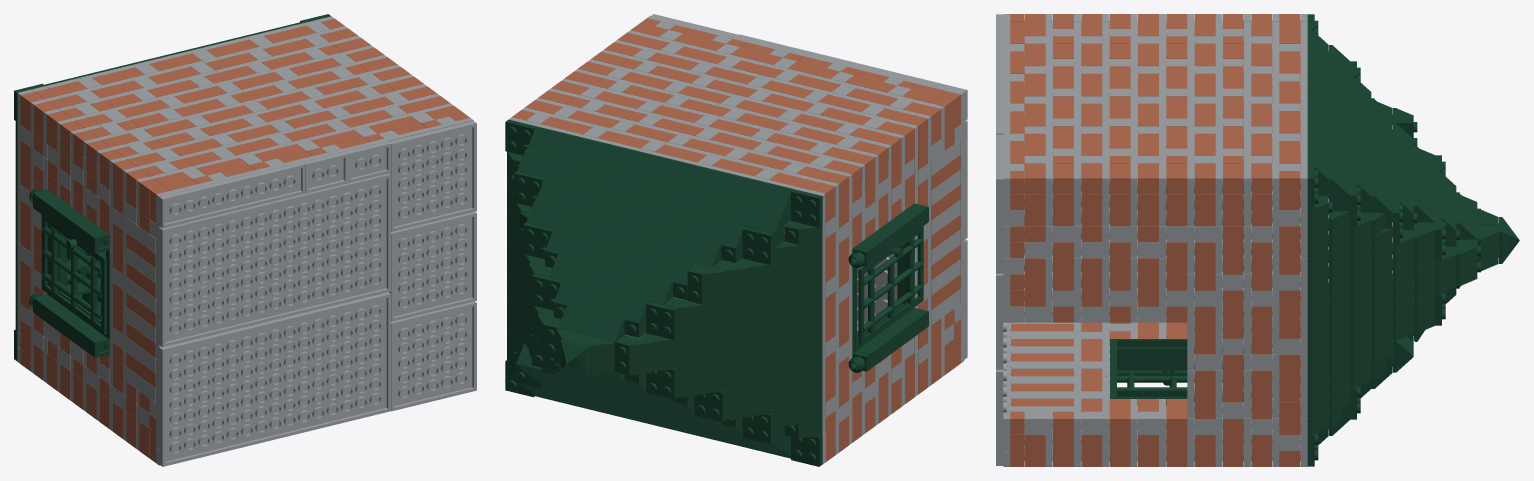
File: casa entrada 2.dae
The picture shows the model from 3 angles, left to right: view 1: azimuth 30°, elevation 25°; view 2: azimuth 150°, elevation 25°; view 3: azimuth 270°, elevation 25°; orthographic projection. The views are drawn at different scales.
Visible parts, largest first — view 1: Inner-Node-pared_dot_io-337, Inner-Node-pared_dot_io-228, Inner-Node-pared_dot_io-400, Inner-Node-pared_dot_io-476, Inner-Node-pared_dot_io-546, Inner-Node-pared_dot_io-217, Inner-Node-pared_dot_io-559, Inner-Node-pared_dot_io-645, Inner-Node-pared_dot_io-333, Inner-Node-pared_dot_io-383, Inner-Node-pared_dot_io-699, Inner-Node-pared_dot_io-67 (+31 smaller); view 2: Inner-Node-pared_dot_io-559, Inner-Node-pared_dot_io-645, Inner-Node-pared_dot_io-337, Inner-Node-pared_dot_io-758, Inner-Node-pared_dot_io-687, Inner-Node-pared_dot_io-736, Inner-Node-pared_dot_io-712, Inner-Node-pared_dot_io-772, Inner-Node-pared_dot_io-726, Inner-Node-pared_dot_io-780, Inner-Node-pared_dot_io-666, Inner-Node-pared_dot_io-714 (+116 smaller); view 3: Inner-Node-pared_dot_io-34, Inner-Node-pared_dot_io-571, Inner-Node-pared_dot_io-674, Inner-Node-pared_dot_io-547, Inner-Node-pared_dot_io-400, Inner-Node-pared_dot_io-314, Inner-Node-pared_dot_io-653, Inner-Node-pared_dot_io-676, Inner-Node-pared_dot_io-715, Inner-Node-pared_dot_io-806, Inner-Node-pared_dot_io-816, Inner-Node-pared_dot_io-821 (+101 smaller).
Boxes of the visible parts, x1,y1,x2,y2 form: Inner-Node-pared_dot_io-337: (159,292,390,466); Inner-Node-pared_dot_io-228: (159,173,390,347); Inner-Node-pared_dot_io-400: (389,121,476,231); Inner-Node-pared_dot_io-476: (389,211,476,321); Inner-Node-pared_dot_io-546: (391,301,476,411); Inner-Node-pared_dot_io-217: (159,162,305,228); Inner-Node-pared_dot_io-559: (36,192,109,357); Inner-Node-pared_dot_io-645: (41,214,106,334); Inner-Node-pared_dot_io-333: (302,151,348,193); Inner-Node-pared_dot_io-383: (345,141,390,183); Inner-Node-pared_dot_io-699: (17,89,34,243); Inner-Node-pared_dot_io-67: (327,118,473,154); Inner-Node-pared_dot_io-559: (855,203,928,368); Inner-Node-pared_dot_io-645: (858,226,923,346); Inner-Node-pared_dot_io-337: (736,221,967,359); Inner-Node-pared_dot_io-758: (687,264,725,304); Inner-Node-pared_dot_io-687: (615,335,653,375); Inner-Node-pared_dot_io-736: (784,221,822,259); Inner-Node-pared_dot_io-712: (707,219,745,263); Inner-Node-pared_dot_io-772: (610,294,648,337); Inner-Node-pared_dot_io-726: (742,227,774,265); Inner-Node-pared_dot_io-780: (646,301,677,339); Inner-Node-pared_dot_io-666: (791,189,822,227); Inner-Node-pared_dot_io-714: (663,297,701,337); Inner-Node-pared_dot_io-34: (1110,339,1222,404); Inner-Node-pared_dot_io-571: (1272,194,1279,354); Inner-Node-pared_dot_io-674: (1300,258,1307,418); Inner-Node-pared_dot_io-547: (1117,366,1222,388); Inner-Node-pared_dot_io-400: (996,134,1003,273); Inner-Node-pared_dot_io-314: (1194,242,1215,290); Inner-Node-pared_dot_io-653: (1279,226,1300,274); Inner-Node-pared_dot_io-676: (1279,354,1300,402); Inner-Node-pared_dot_io-715: (1279,290,1300,338); Inner-Node-pared_dot_io-806: (1024,258,1045,306); Inner-Node-pared_dot_io-816: (1081,258,1102,306); Inner-Node-pared_dot_io-821: (1109,242,1130,290).
Bounding box in the file's own units: 460 × 380 × 592.
